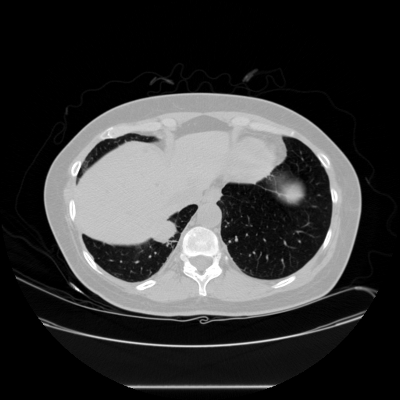nodule: (156, 223, 174, 241)
